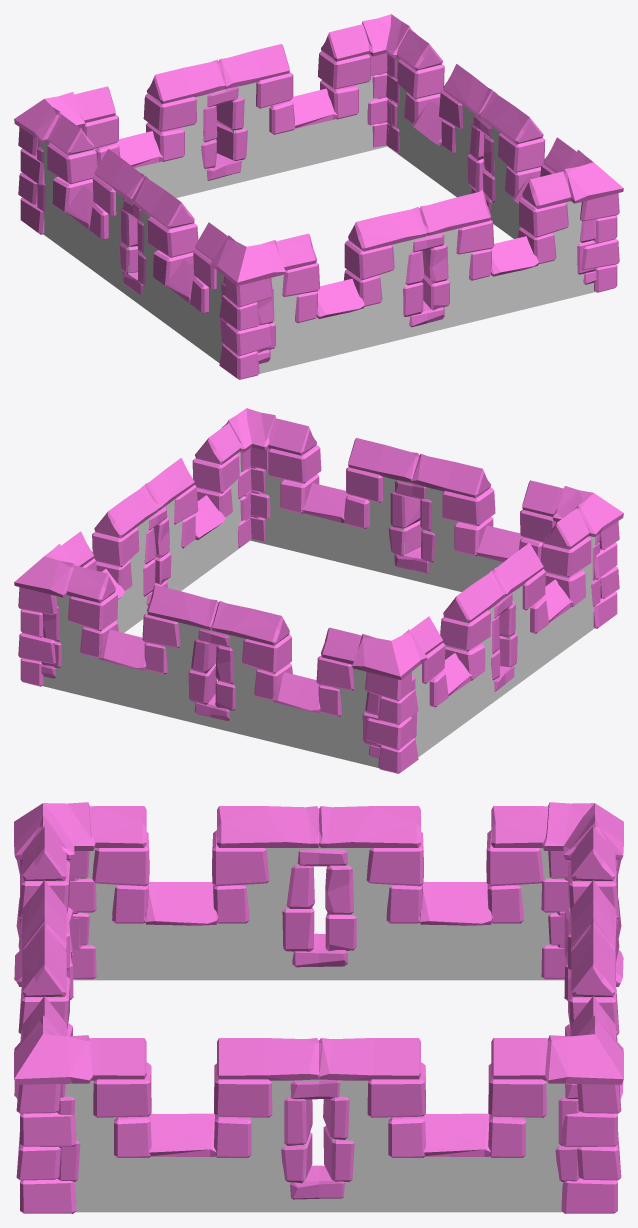
Rendered from SM_Tower_Square_6m_Crenelations_Fantasy.fbx.
3 views of the same model, one above another, from view 1: azimuth 30°, elevation 25°; view 2: azimuth 150°, elevation 25°; view 3: azimuth 270°, elevation 25° (orthographic). The views are drawn at different scales.
Parts seen in each view (by area): view 1: SM_Tower_Square_6m_Crenelations_Fantasy; view 2: SM_Tower_Square_6m_Crenelations_Fantasy; view 3: SM_Tower_Square_6m_Crenelations_Fantasy.
Boxes of the visible parts, x1,y1,x2,y2 form: SM_Tower_Square_6m_Crenelations_Fantasy: (14, 14, 623, 379); SM_Tower_Square_6m_Crenelations_Fantasy: (14, 408, 623, 773); SM_Tower_Square_6m_Crenelations_Fantasy: (14, 802, 623, 1213).
Size of the model in its own units: 6.66 by 2.05 by 6.67.
